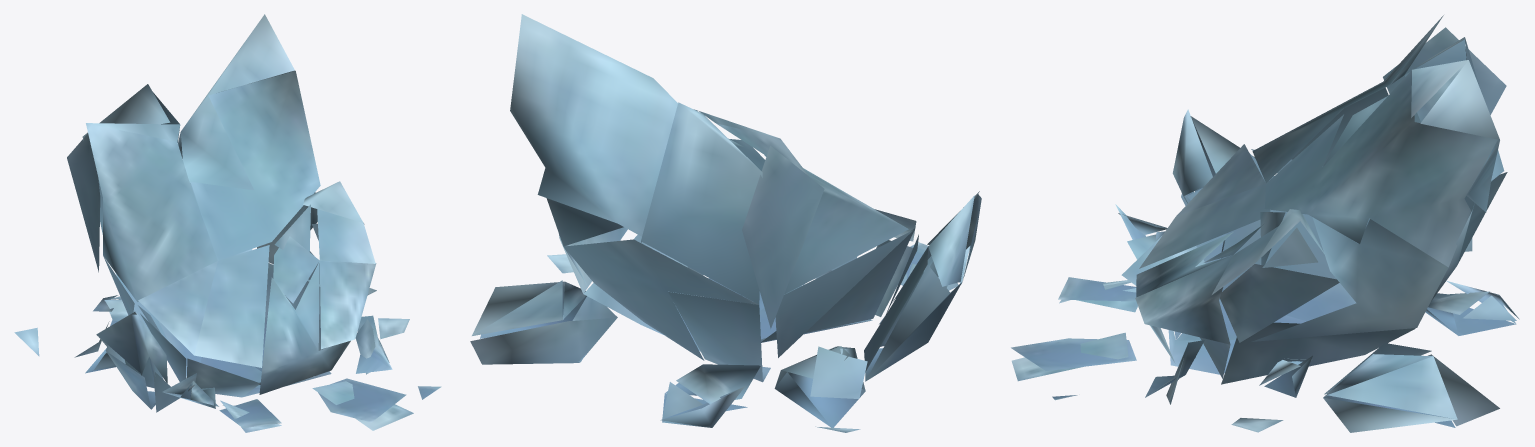
The model's file is icechunk_lo.glb.
The picture shows the model from 3 angles, left to right: view 1: azimuth 30°, elevation 25°; view 2: azimuth 150°, elevation 25°; view 3: azimuth 270°, elevation 25°; orthographic projection. The views are drawn at different scales.
Parts seen in each view (by area): view 1: icechunk_lo; view 2: icechunk_lo; view 3: icechunk_lo.
Part boxes in pixels (left/top/right/bottom): icechunk_lo: left=14, top=14, right=441, bottom=432; icechunk_lo: left=470, top=14, right=981, bottom=432; icechunk_lo: left=1011, top=15, right=1519, bottom=432.
Size of the model in its own units: 1.83 by 1.59 by 2.
Materials: 1 (1 with a texture image).
